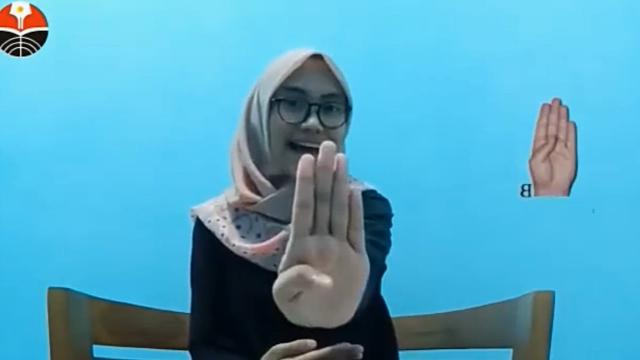B: (271, 140, 371, 328)
